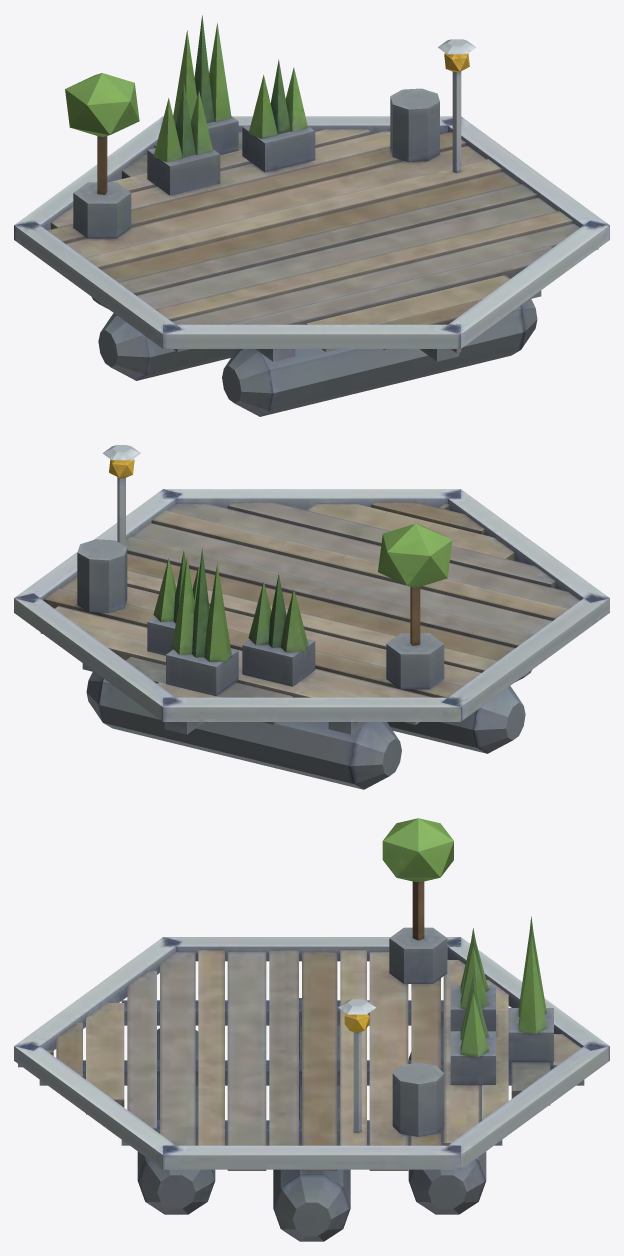
The model's file is raft-d-age20.glb.
3 renders of one model, top to bottom at view 1: azimuth 30°, elevation 25°; view 2: azimuth 150°, elevation 25°; view 3: azimuth 270°, elevation 25°, orthographic.
Parts seen in each view (by area): view 1: raft-d-age20; view 2: raft-d-age20; view 3: raft-d-age20.
Boxes of the visible parts, x1,y1,x2,y2 form: raft-d-age20: [14, 15, 609, 416]; raft-d-age20: [14, 445, 609, 789]; raft-d-age20: [14, 818, 609, 1241].
Size of the model in its own units: 1.6 by 0.8846 by 1.85.
1 material, 1 textured.
